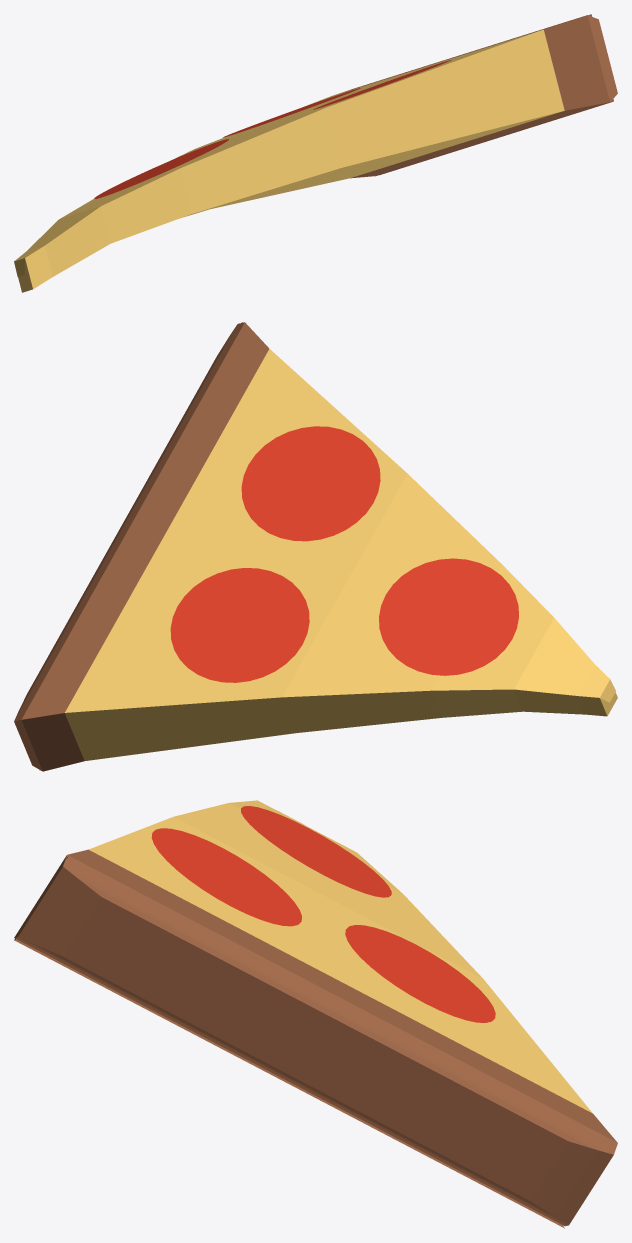
File: pizza.fbx
3 views of the same model, one above another, from view 1: azimuth 30°, elevation 25°; view 2: azimuth 150°, elevation 25°; view 3: azimuth 270°, elevation 25° (orthographic). The views are drawn at different scales.
Parts seen in each view (by area): view 1: Pizza; view 2: Pizza; view 3: Pizza.
Part boxes in pixels (x1,y1,x2,y2): Pizza: (14,14,617,292); Pizza: (14,322,617,771); Pizza: (14,800,617,1228).
Size of the model in its own units: 56.69 by 34.89 by 51.4.
